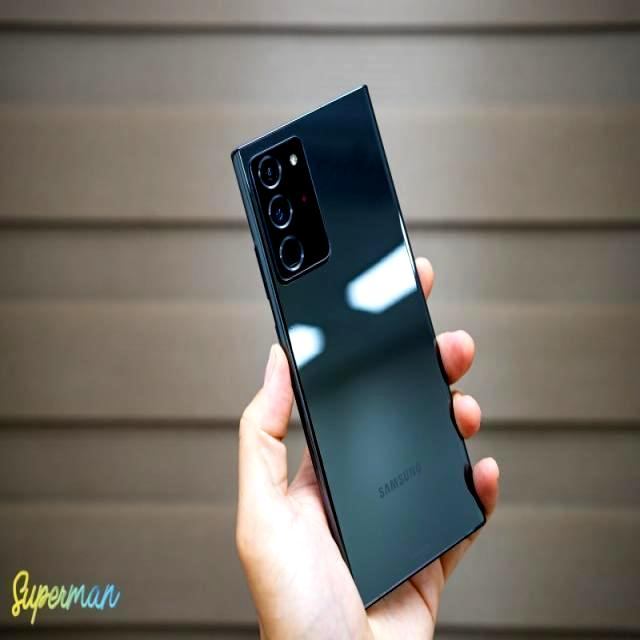lens_back: (254, 154, 286, 192), (277, 234, 307, 274), (266, 193, 295, 230)
phone: (227, 83, 490, 612)
